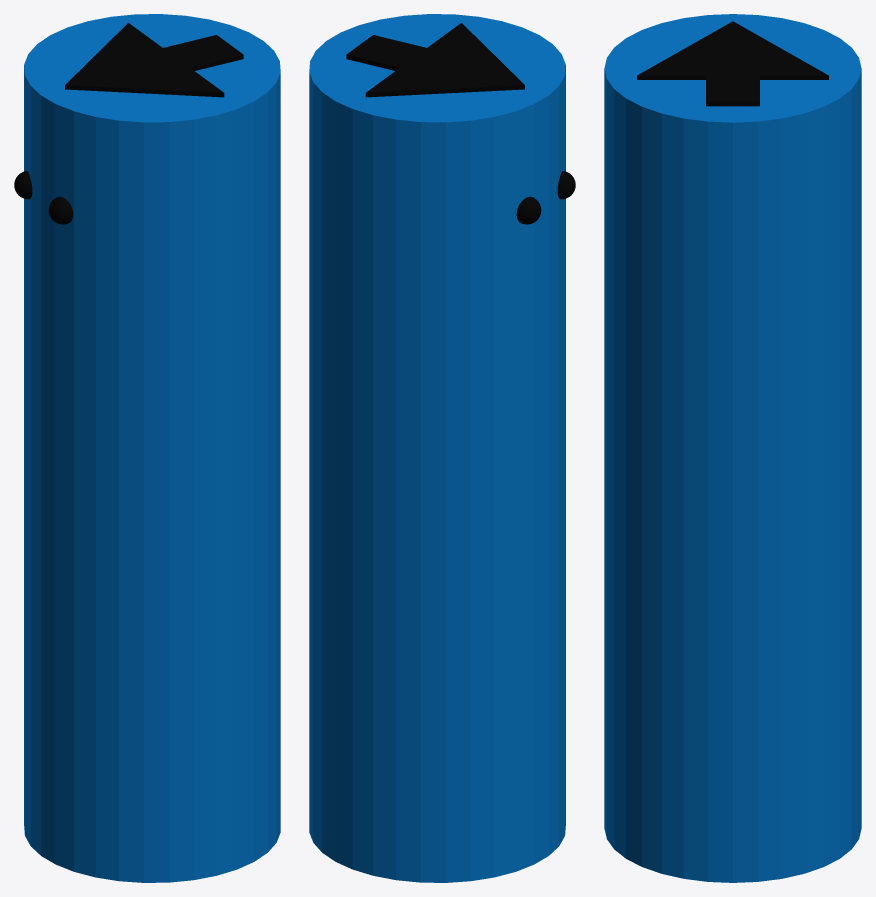
The picture shows the model from 3 angles, left to right: view 1: azimuth 30°, elevation 25°; view 2: azimuth 150°, elevation 25°; view 3: azimuth 270°, elevation 25°; orthographic projection.
Parts seen in each view (by area): view 1: Cylinder_Cylinder_Material.006, Cylinder_Cylinder_SVGMat; view 2: Cylinder_Cylinder_Material.006, Cylinder_Cylinder_SVGMat; view 3: Cylinder_Cylinder_Material.006, Cylinder_Cylinder_SVGMat.
Boxes of the visible parts, x1,y1,x2,y2 form: Cylinder_Cylinder_Material.006: [24, 14, 280, 882]; Cylinder_Cylinder_SVGMat: [14, 23, 243, 224]; Cylinder_Cylinder_Material.006: [309, 14, 565, 882]; Cylinder_Cylinder_SVGMat: [346, 23, 575, 224]; Cylinder_Cylinder_Material.006: [604, 14, 861, 882]; Cylinder_Cylinder_SVGMat: [637, 21, 828, 106].
Bounding box in the file's own units: 0.1612 × 0.5117 × 0.1559.
